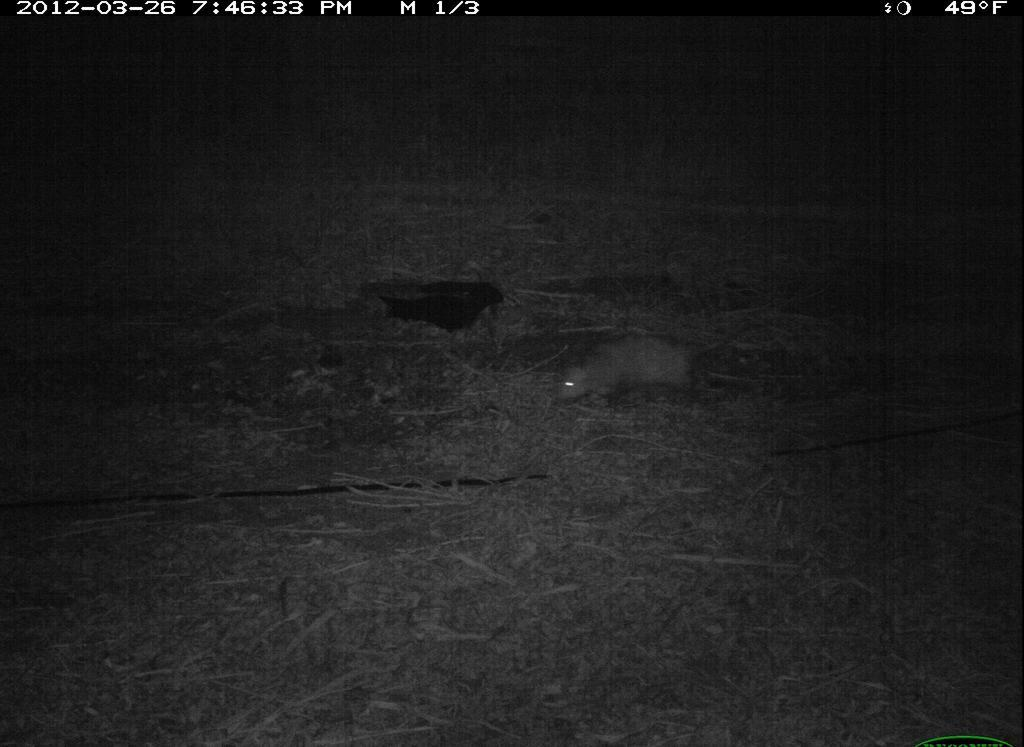opossum: (539, 309, 749, 431)
